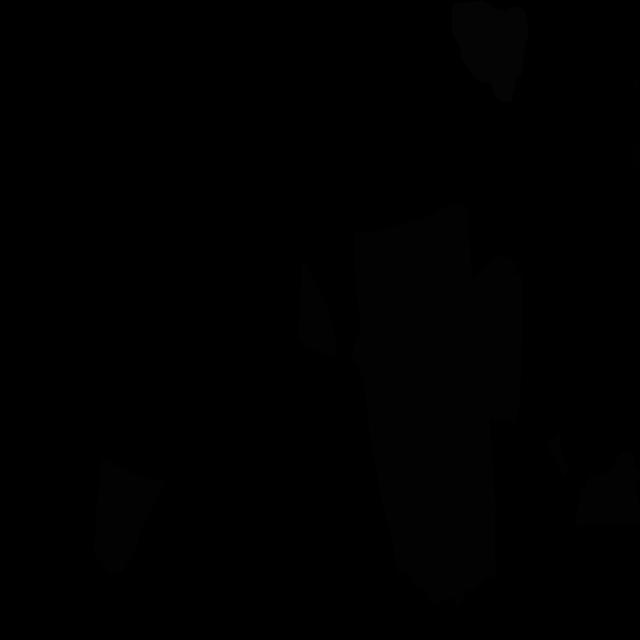cardboard: (352, 203, 496, 604), (472, 254, 523, 424), (93, 459, 165, 575), (574, 451, 640, 528), (298, 260, 337, 359), (546, 434, 569, 477)
rigid_plastic: (630, 130, 640, 175), (632, 77, 640, 99)
soft_plastic: (452, 0, 528, 102)
